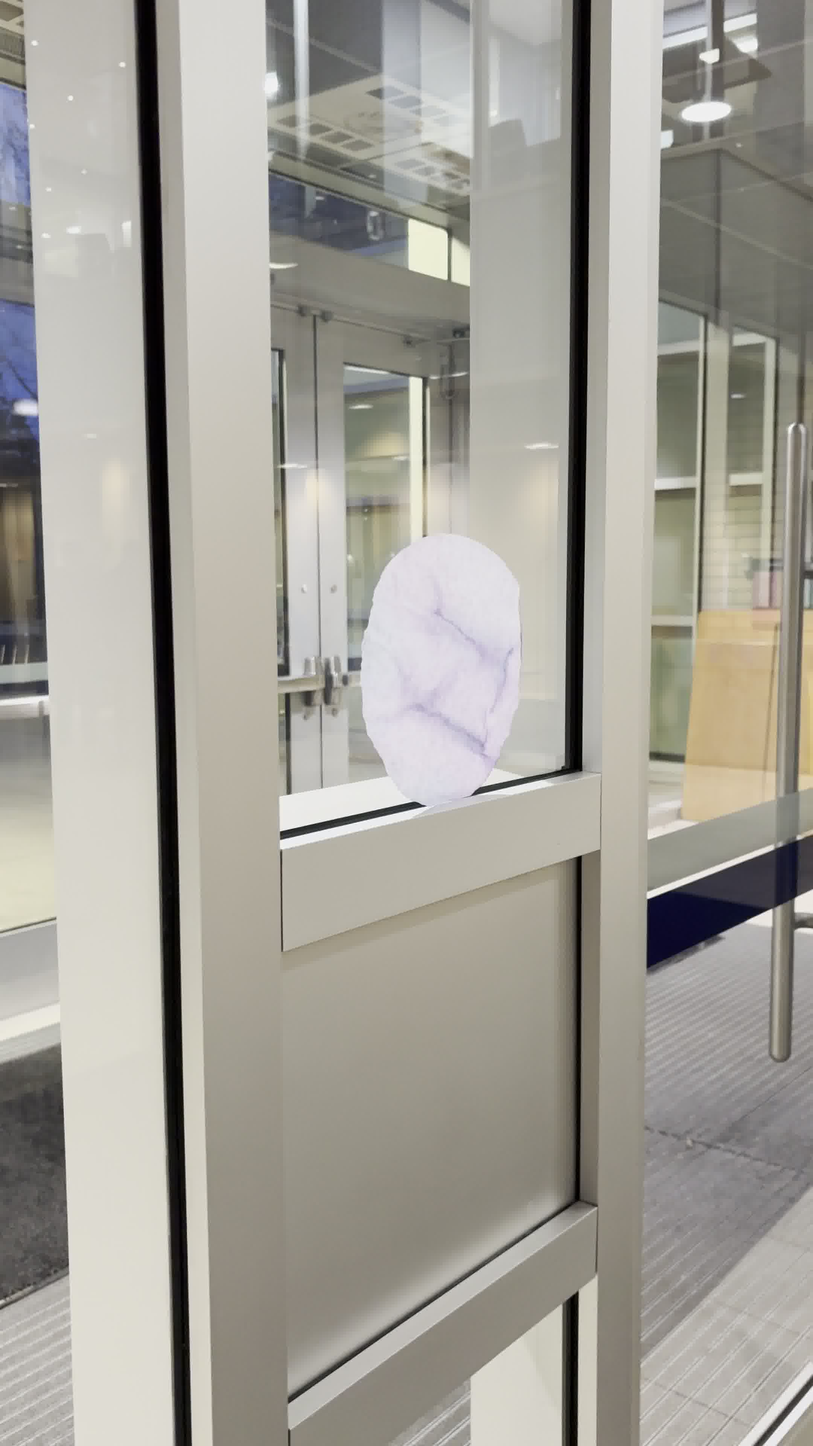Target: (361, 535, 523, 804)
